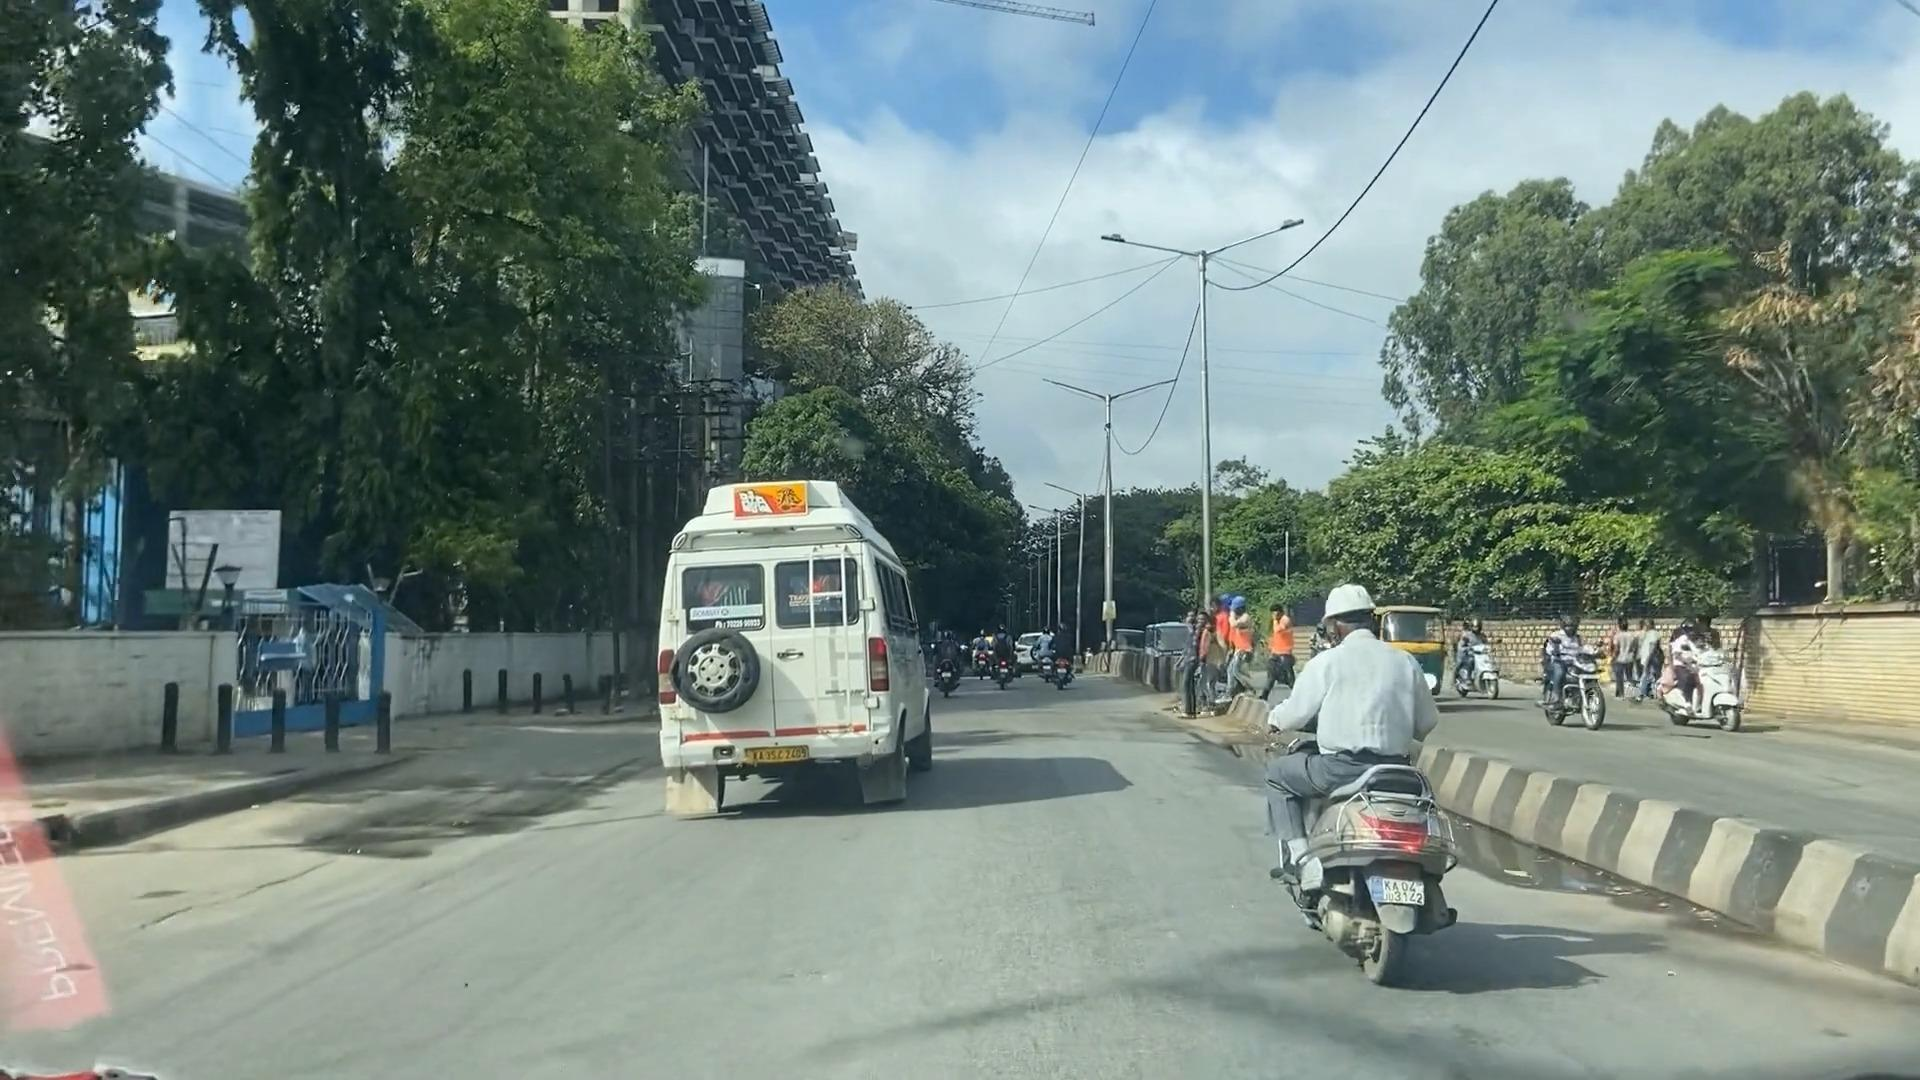HMV: (618, 498, 938, 802)
LMV: (1238, 575, 1453, 963)
RoadDamages: (136, 833, 389, 976)
